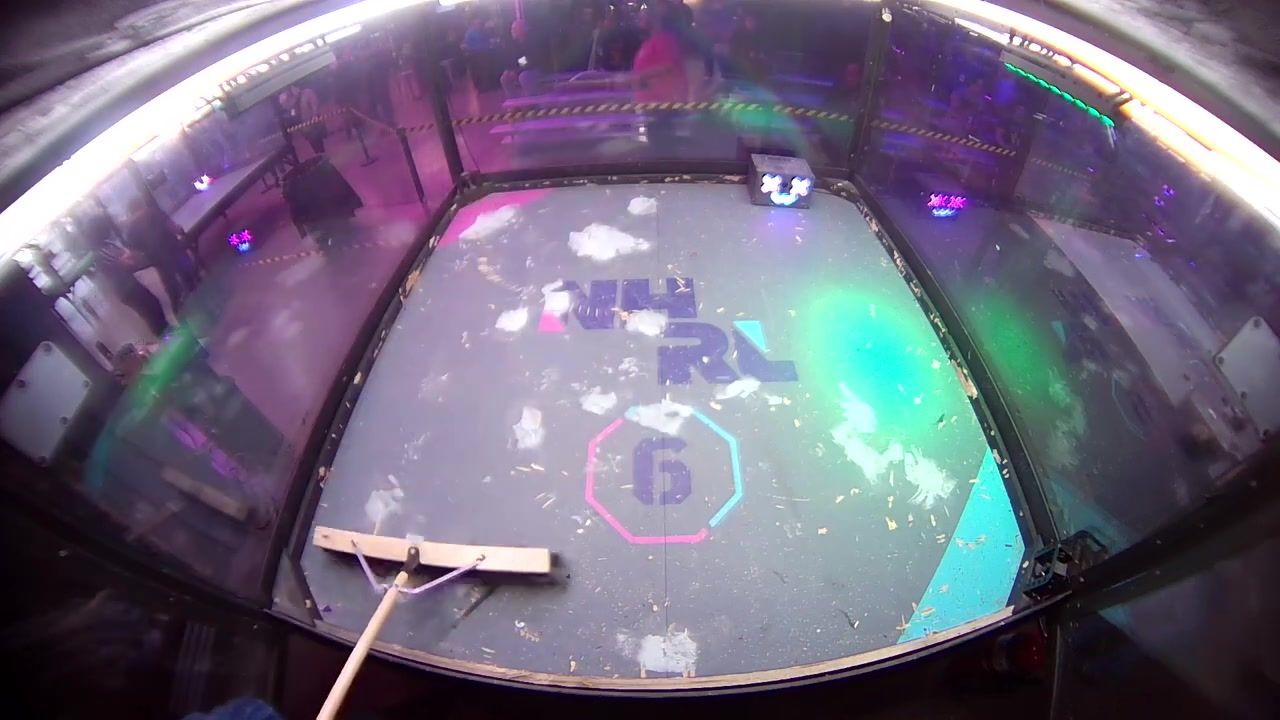housebot: (746, 153, 814, 209)
